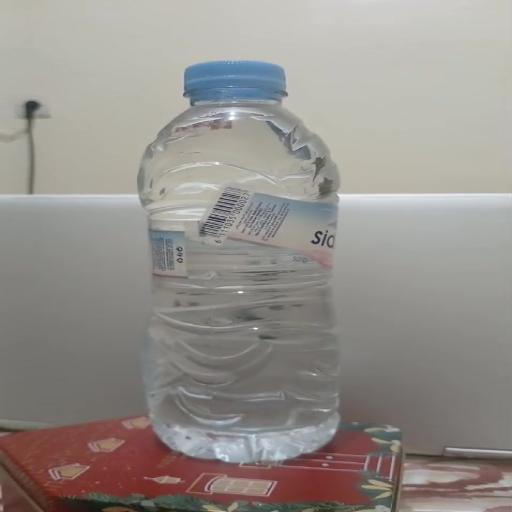bouteille non conformite: (118, 74, 398, 466), (68, 202, 426, 295)
